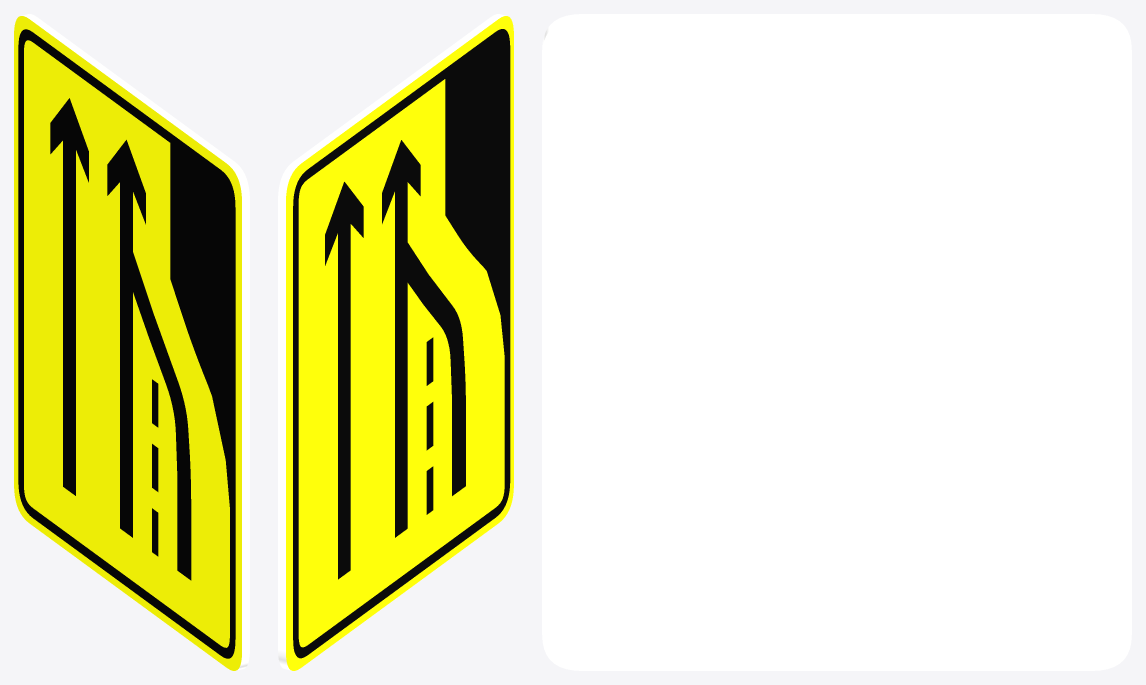
Rendered from Attention_Lane_Reduction_Ahead_1.glb.
3 views of the same model, side by side, from view 1: azimuth 30°, elevation 25°; view 2: azimuth 150°, elevation 25°; view 3: azimuth 270°, elevation 25° (orthographic). The views are drawn at different scales.
Parts seen in each view (by area): view 1: Attention_Lane_Reduction_Ahead_1; view 2: Attention_Lane_Reduction_Ahead_1; view 3: Attention_Lane_Reduction_Ahead_1.
Boxes of the visible parts, x1=… form: Attention_Lane_Reduction_Ahead_1: x1=14, y1=14, x2=249, y2=670; Attention_Lane_Reduction_Ahead_1: x1=278, y1=14, x2=513, y2=670; Attention_Lane_Reduction_Ahead_1: x1=542, y1=14, x2=1131, y2=670.
Bounding box in the file's own units: 0.0354 × 1.83 × 1.5.
